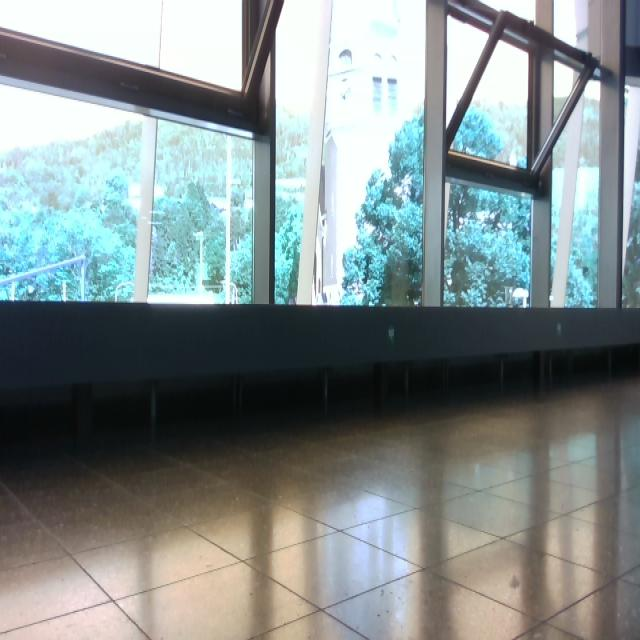light bulb: (388, 326, 395, 341)
tiled floor: (2, 373, 639, 638)
window: (1, 1, 640, 313)
